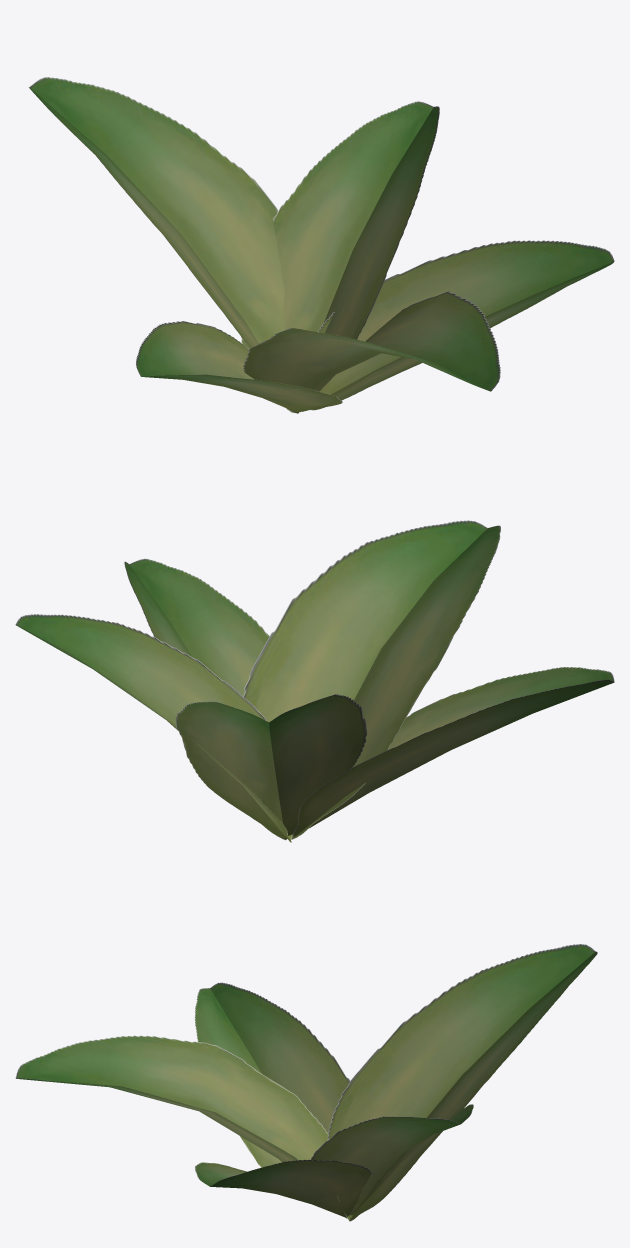
Rendered from lisc.fbx.
3 renders of one model, top to bottom at view 1: azimuth 30°, elevation 25°; view 2: azimuth 150°, elevation 25°; view 3: azimuth 270°, elevation 25°, orthographic. The views are drawn at different scales.
Visible parts, largest first — view 1: Plane.012; view 2: Plane.012; view 3: Plane.012.
Part boxes in pixels (bbox=[...]): Plane.012: bbox=[28, 77, 614, 413]; Plane.012: bbox=[15, 520, 614, 842]; Plane.012: bbox=[15, 944, 597, 1221].
Bounding box in the file's own units: 16.92 × 10.22 × 21.01.
